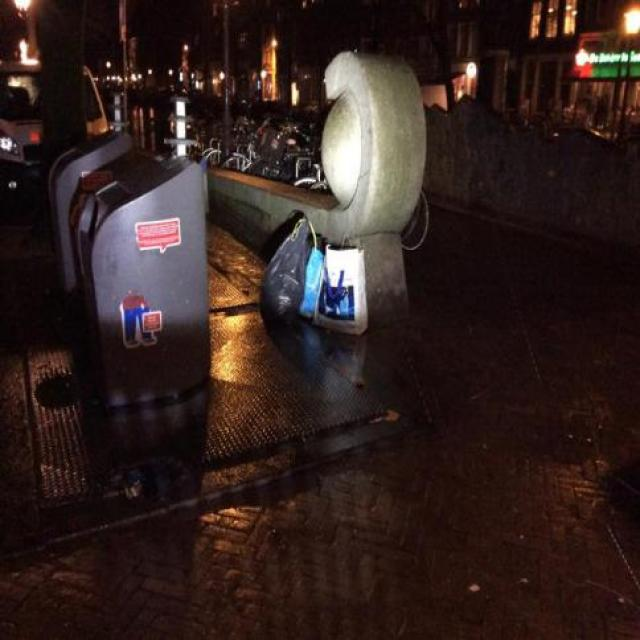Anorganik: (258, 210, 326, 336)
